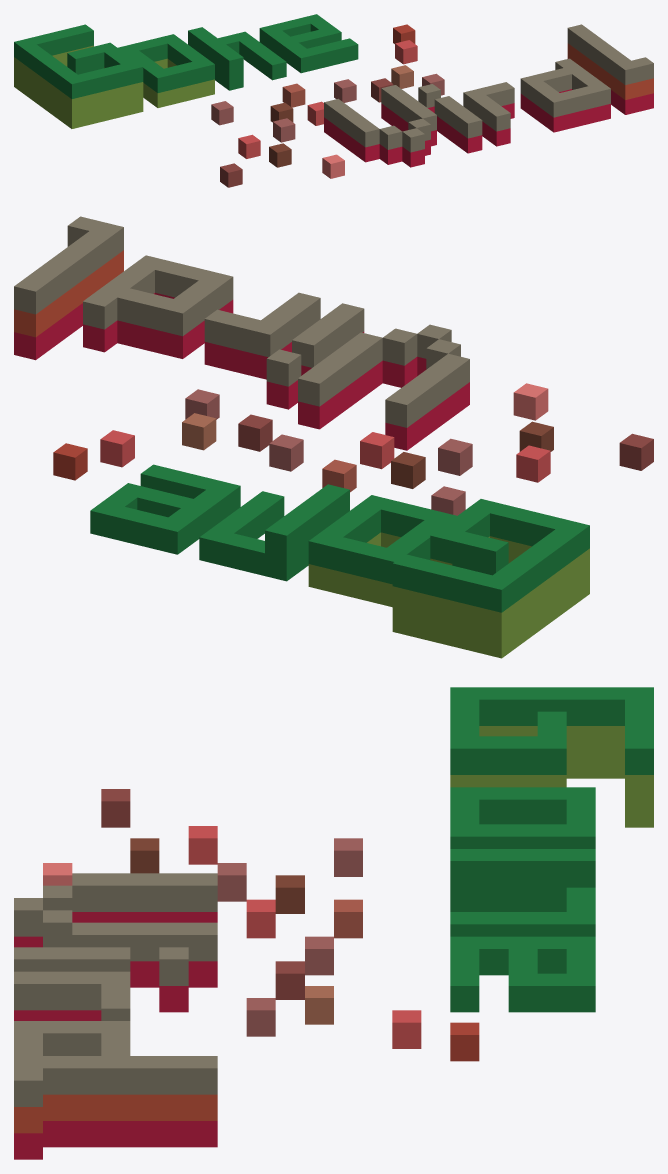
File: GoneViralTitle.obj
The picture shows the model from 3 angles, top to bottom: view 1: azimuth 30°, elevation 25°; view 2: azimuth 150°, elevation 25°; view 3: azimuth 270°, elevation 25°; orthographic projection. The views are drawn at different scales.
Bounding box in the file's own units: 3.2 × 0.3 × 2.2.
Materials: 1 (1 with a texture image).
